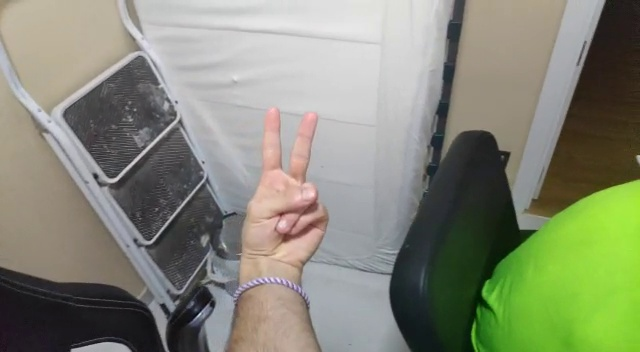Peace: (239, 102, 331, 265)
